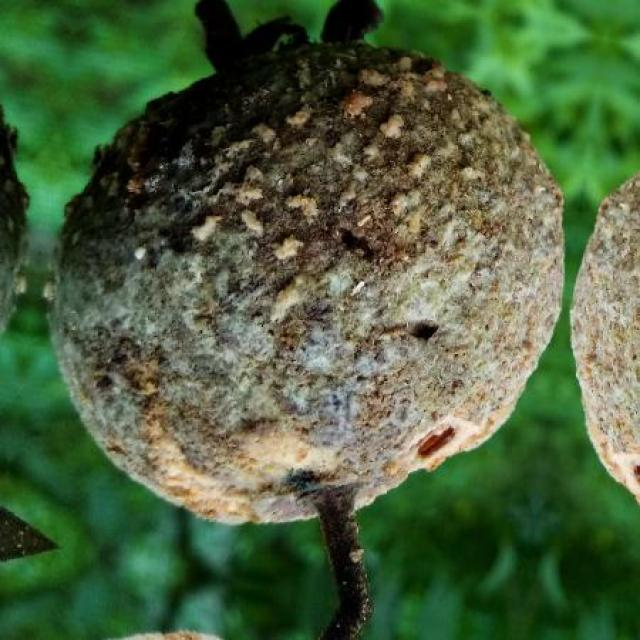Phytopthora: (54, 44, 562, 522), (571, 172, 640, 502)
